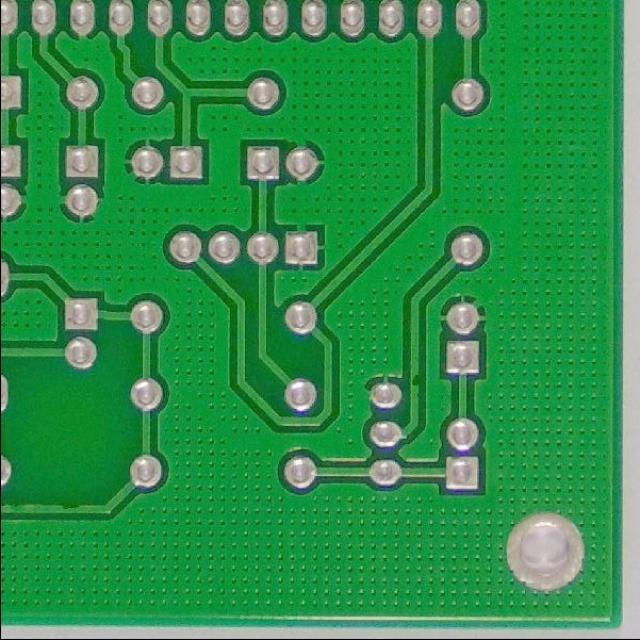mouse_bite: (53, 498, 84, 518), (402, 369, 424, 392)
